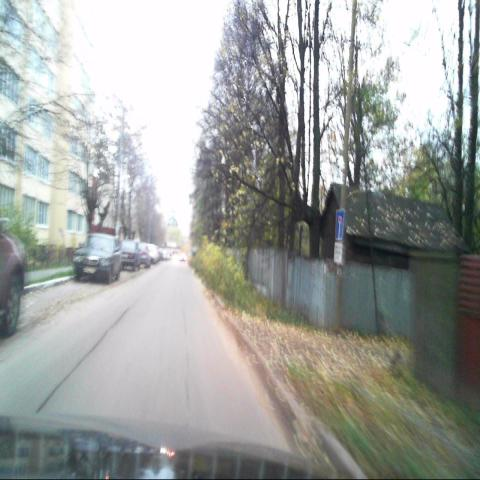6_8_1: (335, 209, 344, 240)
